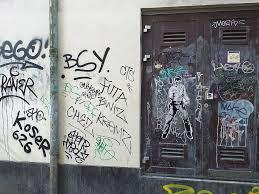graffiti: (63, 76, 133, 166), (0, 36, 48, 161), (154, 52, 196, 145), (211, 63, 256, 146), (60, 46, 113, 78), (197, 71, 211, 127), (116, 64, 136, 91), (211, 18, 247, 28)
